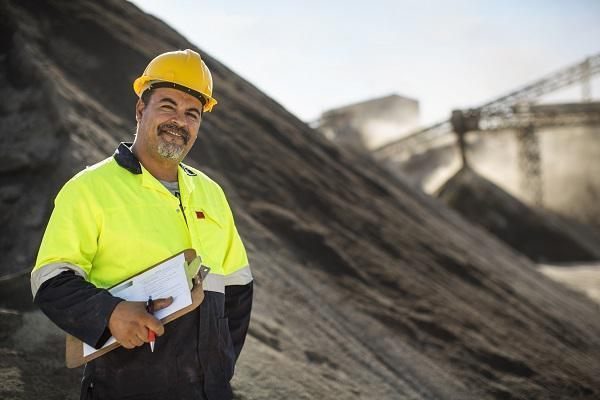helmet: (133, 49, 217, 111)
